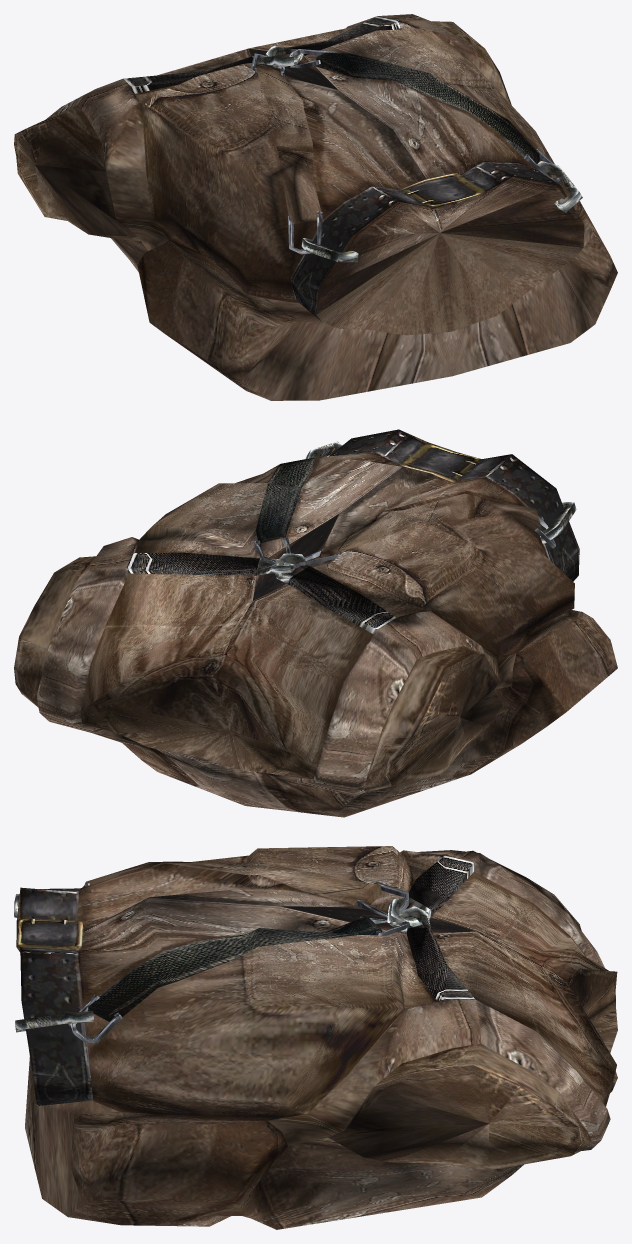
The model's file is novice_suit.fbx.
3 renders of one model, top to bottom at view 1: azimuth 30°, elevation 25°; view 2: azimuth 150°, elevation 25°; view 3: azimuth 270°, elevation 25°, orthographic. The views are drawn at different scales.
Visible parts, largest first — view 1: 0; view 2: 0; view 3: 0.
Boxes of the visible parts, x1=… form: 0: x1=14, y1=14, x2=617, y2=400; 0: x1=14, y1=429, x2=617, y2=817; 0: x1=14, y1=846, x2=617, y2=1229.
Size of the model in its own units: 0.4614 by 0.2571 by 0.5048.
